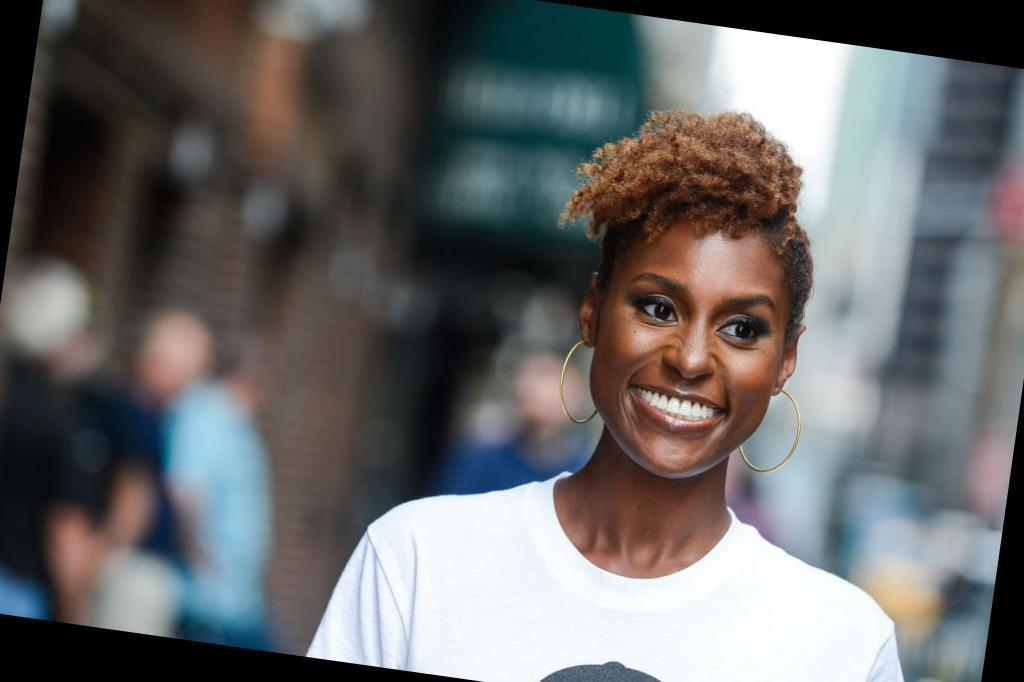Sober: (615, 226, 780, 469)
